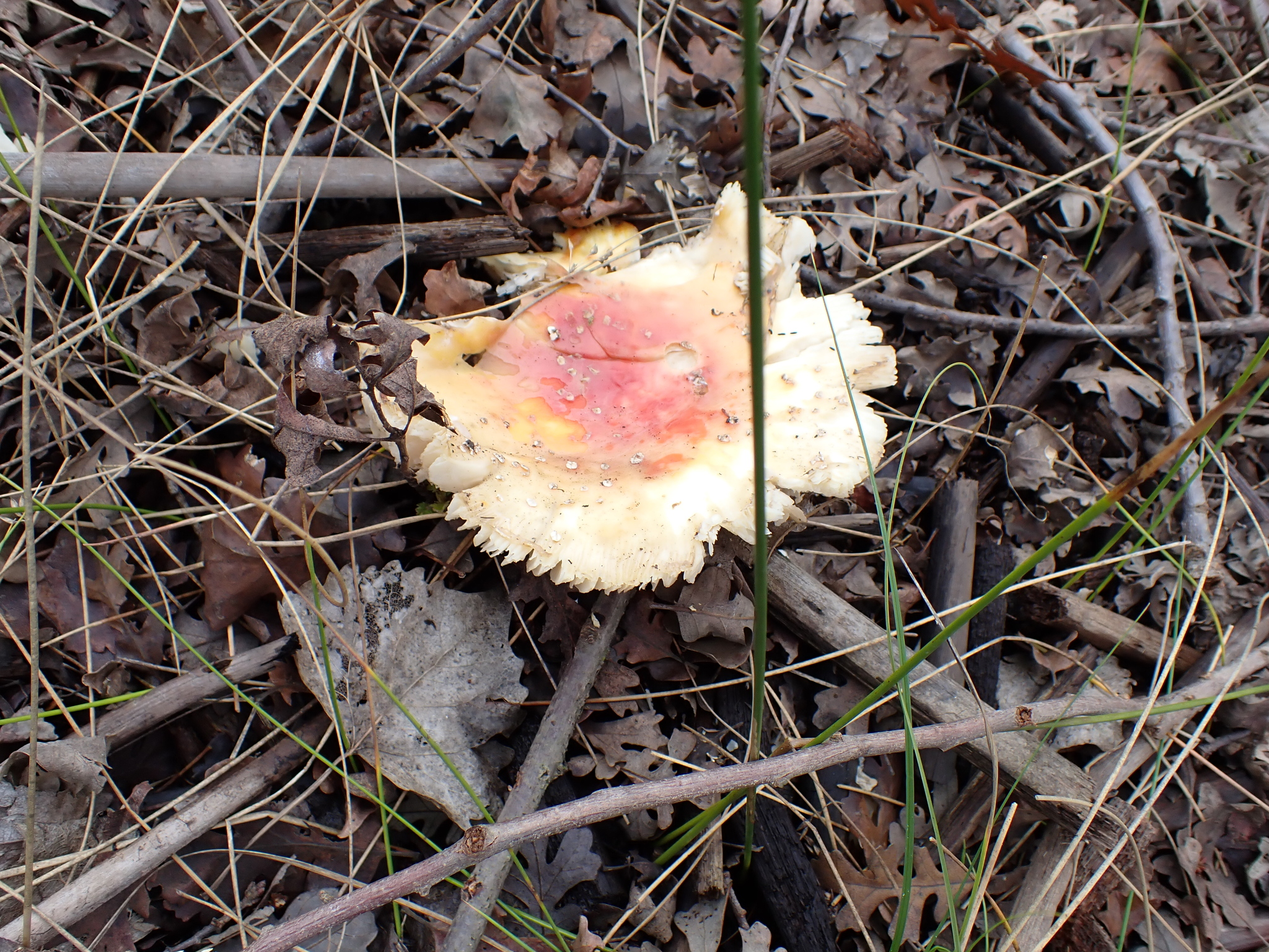cap: (402, 187, 894, 592)
